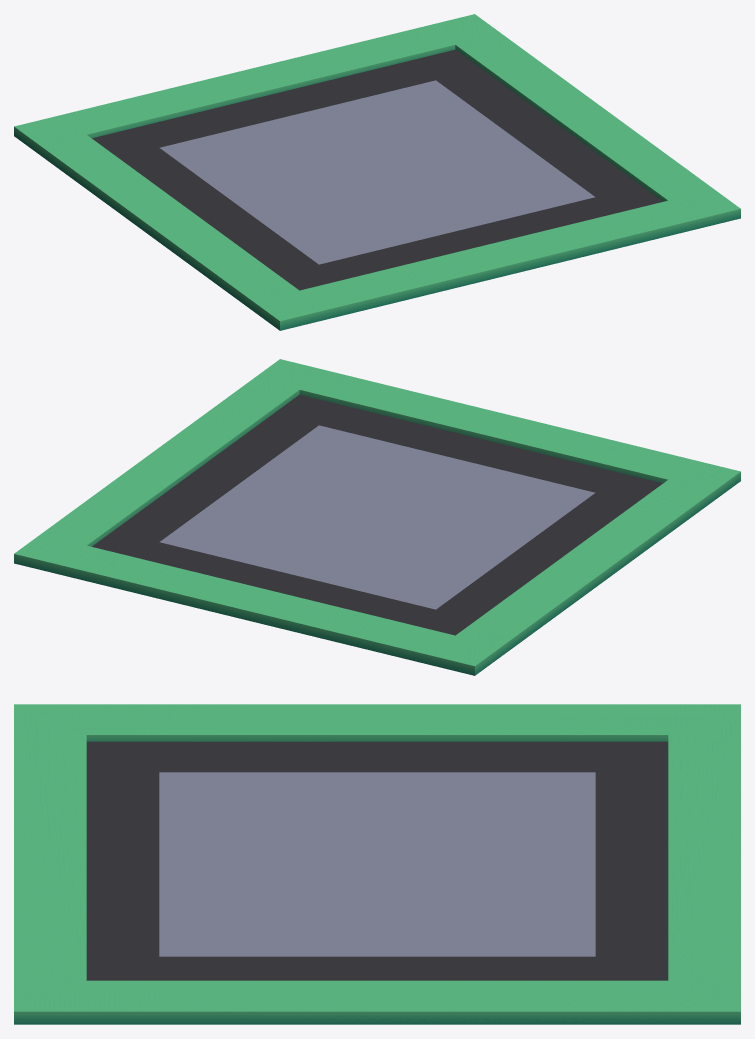
The model's file is road_square.glb.
The picture shows the model from 3 angles, top to bottom: view 1: azimuth 30°, elevation 25°; view 2: azimuth 150°, elevation 25°; view 3: azimuth 270°, elevation 25°; orthographic projection. The views are drawn at different scales.
Parts seen in each view (by area): view 1: road-square; view 2: road-square; view 3: road-square.
Part boxes in pixels (x1=…): road-square: x1=14, y1=14, x2=740, y2=330; road-square: x1=14, y1=359, x2=740, y2=675; road-square: x1=14, y1=704, x2=740, y2=1024.
Size of the model in its own units: 1 by 0.02 by 1.
1 material, 1 textured.
